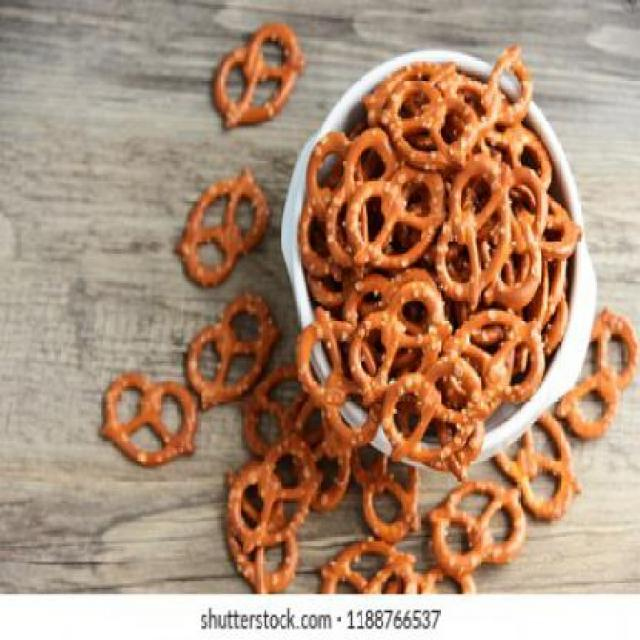Salatini packaged: (293, 48, 578, 462)
